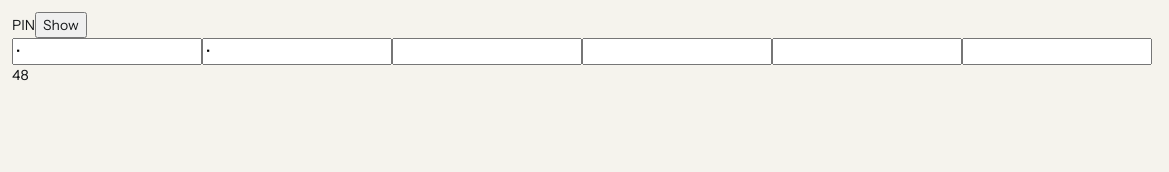
it: six labelled boxes: numeric keypad, no autocomplete, masked digits
Expected: the element "PIN" is shown, [12, 12, 1152, 65]
Expected: the field named "PIN digit 1 of 6" holds "•", [12, 38, 202, 65]
Click the button with aria-label "Show PIN" at point(61, 25), box [35, 12, 87, 38]
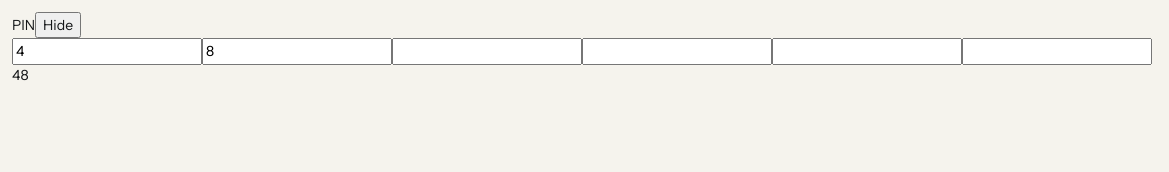
Now the field named "PIN digit 1 of 6" holds "4", box [12, 38, 202, 65]
